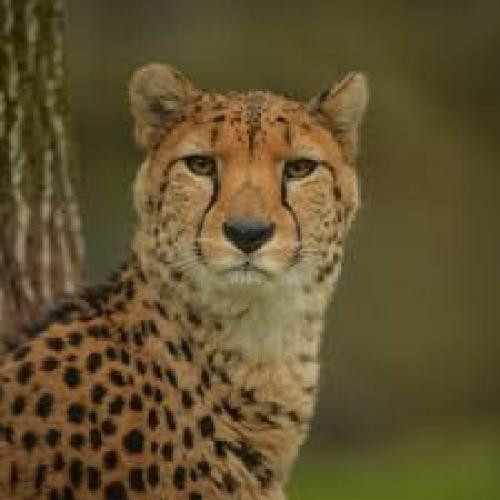cheetah-endangered: (4, 62, 354, 500)
